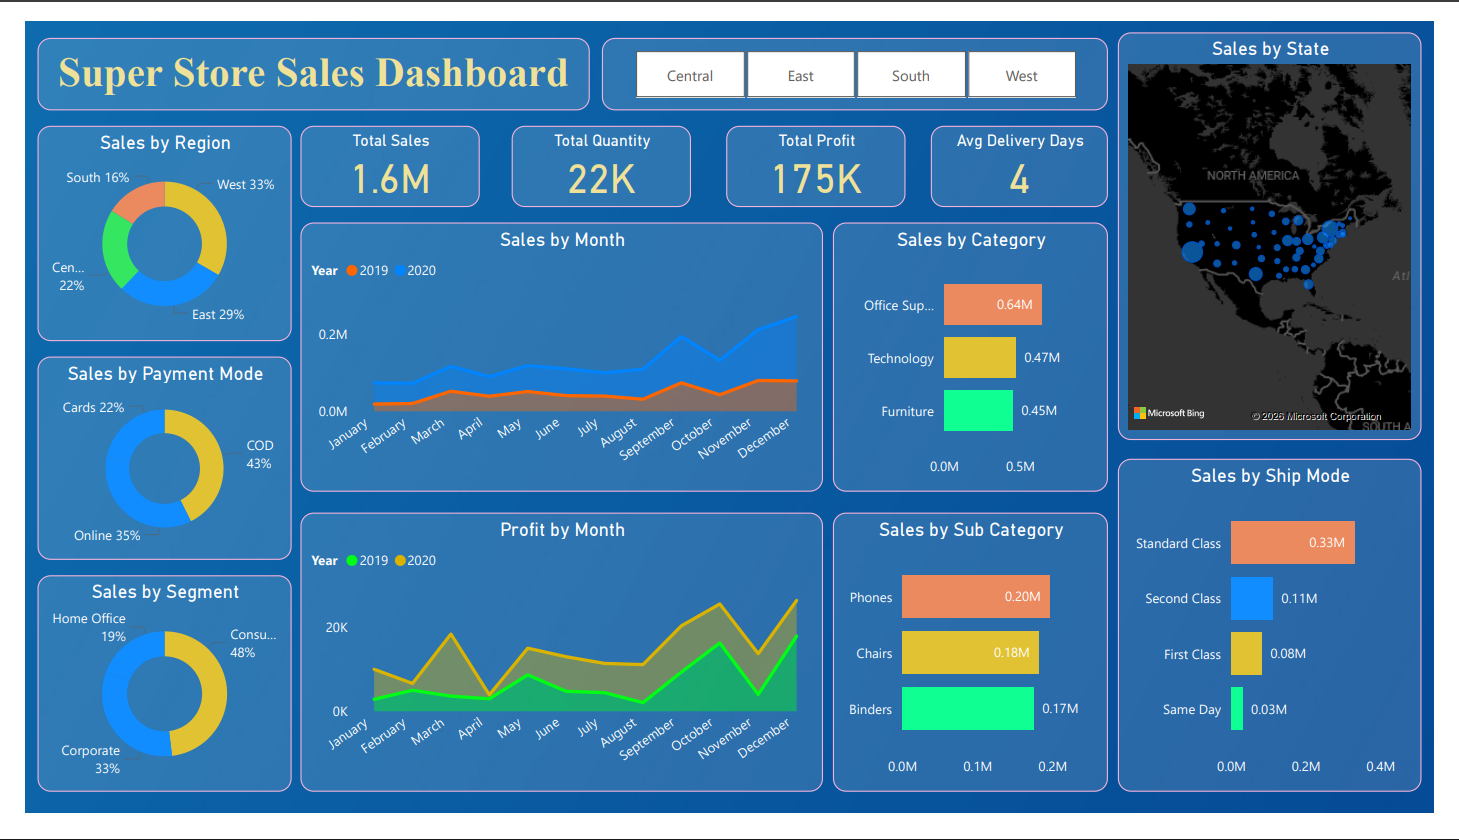

The page's visual inventory and layout, read from the dashboard file:
{"tool":"powerbi","page":{"name":"Page 1","canvas":[1280,720],"ordinal":0},"visuals":[{"type":"clusteredBarChart","title":"Sales by Category","fields":{"Category":["SuperStore_Sales_Dataset2.Category"],"Y":["Sum(SuperStore_Sales_Dataset2.Sales)"]},"box":[734.1,182.5,249.7,245.6],"z":0},{"type":"clusteredBarChart","title":"Sales by Sub Category","fields":{"Category":["SuperStore_Sales_Dataset2.Sub-Category"],"Y":["Sum(SuperStore_Sales_Dataset2.Sales)"]},"box":[734.1,447.3,249.7,253.9],"z":1000},{"type":"clusteredBarChart","title":"Sales by Ship Mode","fields":{"Category":["SuperStore_Sales_Dataset2.Ship Mode"],"Y":["Sum(SuperStore_Sales_Dataset2.Sales)"]},"box":[993.5,397.9,275.8,303.3],"z":2000},{"type":"stackedAreaChart","title":"Sales by Month","fields":{"Category":["SuperStore_Sales_Dataset2.Order Date.Variation.Date Hierarchy.Month","SuperStore_Sales_Dataset2.Order Date.Variation.Date Hierarchy.Day"],"Y":["Sum(SuperStore_Sales_Dataset2.Sales)"],"Series":["SuperStore_Sales_Dataset2.Order Date.Variation.Date Hierarchy.Year"]},"box":[249.7,182.5,474.8,245.6],"z":3000},{"type":"stackedAreaChart","title":"Profit by Month","fields":{"Category":["SuperStore_Sales_Dataset2.Order Date.Variation.Date Hierarchy.Month","SuperStore_Sales_Dataset2.Order Date.Variation.Date Hierarchy.Day"],"Series":["SuperStore_Sales_Dataset2.Order Date.Variation.Date Hierarchy.Year"],"Y":["Sum(SuperStore_Sales_Dataset2.Profit)"]},"box":[249.7,447.3,474.8,253.9],"z":4000},{"type":"map","title":"Sales by State","fields":{"Category":["SuperStore_Sales_Dataset2.State"],"Size":["Sum(SuperStore_Sales_Dataset2.Sales)"]},"box":[993.5,9.6,275.8,371.9],"z":5000},{"type":"donutChart","title":"Sales by Segment","fields":{"Category":["SuperStore_Sales_Dataset2.Segment"],"Y":["Sum(SuperStore_Sales_Dataset2.Sales)"]},"box":[11,503.6,230.5,197.6],"z":6000},{"type":"donutChart","title":"Sales by Payment Mode","fields":{"Category":["SuperStore_Sales_Dataset2.Payment Mode"],"Y":["Sum(SuperStore_Sales_Dataset2.Sales)"]},"box":[11,304.6,230.5,185.2],"z":7000},{"type":"slicer","fields":{"Values":["SuperStore_Sales_Dataset2.Region"]},"box":[524.2,15.1,459.7,65.9],"z":8000},{"type":"textbox","box":[11,15.1,502.2,65.9],"z":9000},{"type":"card","title":"Total Sales","fields":{"Values":["Sum(SuperStore_Sales_Dataset2.Sales)"]},"box":[249.7,94.7,163.3,74.1],"z":10000},{"type":"card","title":"Total Quantity","fields":{"Values":["Sum(SuperStore_Sales_Dataset2.Quantity)"]},"box":[441.9,94.7,163.3,74.1],"z":11000},{"type":"card","title":"Total Profit","fields":{"Values":["Sum(SuperStore_Sales_Dataset2.Profit)"]},"box":[636.7,94.7,163.3,74.1],"z":12000},{"type":"card","title":"Avg Delivery Days","fields":{"Values":["Avg(SuperStore_Sales_Dataset2.AvgDelivery)"]},"box":[823.3,94.7,160.5,74.1],"z":13000},{"type":"donutChart","title":"Sales by Region","fields":{"Category":["SuperStore_Sales_Dataset2.Region"],"Y":["Sum(SuperStore_Sales_Dataset2.Sales)"]},"box":[11,94.7,230.5,196.2],"z":14000}]}

Visuals, with their boxes in screenshot pixels (x1, y1, x2, y2), scaled from the page's 1280x720 canvas onto the 1459x840 screenshot:
"Sales by Category" clusteredBarChart: (x1=837, y1=213, x2=1121, y2=499)
"Sales by Sub Category" clusteredBarChart: (x1=837, y1=522, x2=1121, y2=818)
"Sales by Ship Mode" clusteredBarChart: (x1=1132, y1=464, x2=1447, y2=818)
"Sales by Month" stackedAreaChart: (x1=285, y1=213, x2=826, y2=499)
"Profit by Month" stackedAreaChart: (x1=285, y1=522, x2=826, y2=818)
"Sales by State" map: (x1=1132, y1=11, x2=1447, y2=445)
"Sales by Segment" donutChart: (x1=13, y1=588, x2=275, y2=818)
"Sales by Payment Mode" donutChart: (x1=13, y1=355, x2=275, y2=571)
slicer - SuperStore_Sales_Dataset2.Region: (x1=598, y1=18, x2=1121, y2=94)
textbox: (x1=13, y1=18, x2=585, y2=94)
"Total Sales" card: (x1=285, y1=110, x2=471, y2=197)
"Total Quantity" card: (x1=504, y1=110, x2=690, y2=197)
"Total Profit" card: (x1=726, y1=110, x2=912, y2=197)
"Avg Delivery Days" card: (x1=938, y1=110, x2=1121, y2=197)
"Sales by Region" donutChart: (x1=13, y1=110, x2=275, y2=339)
